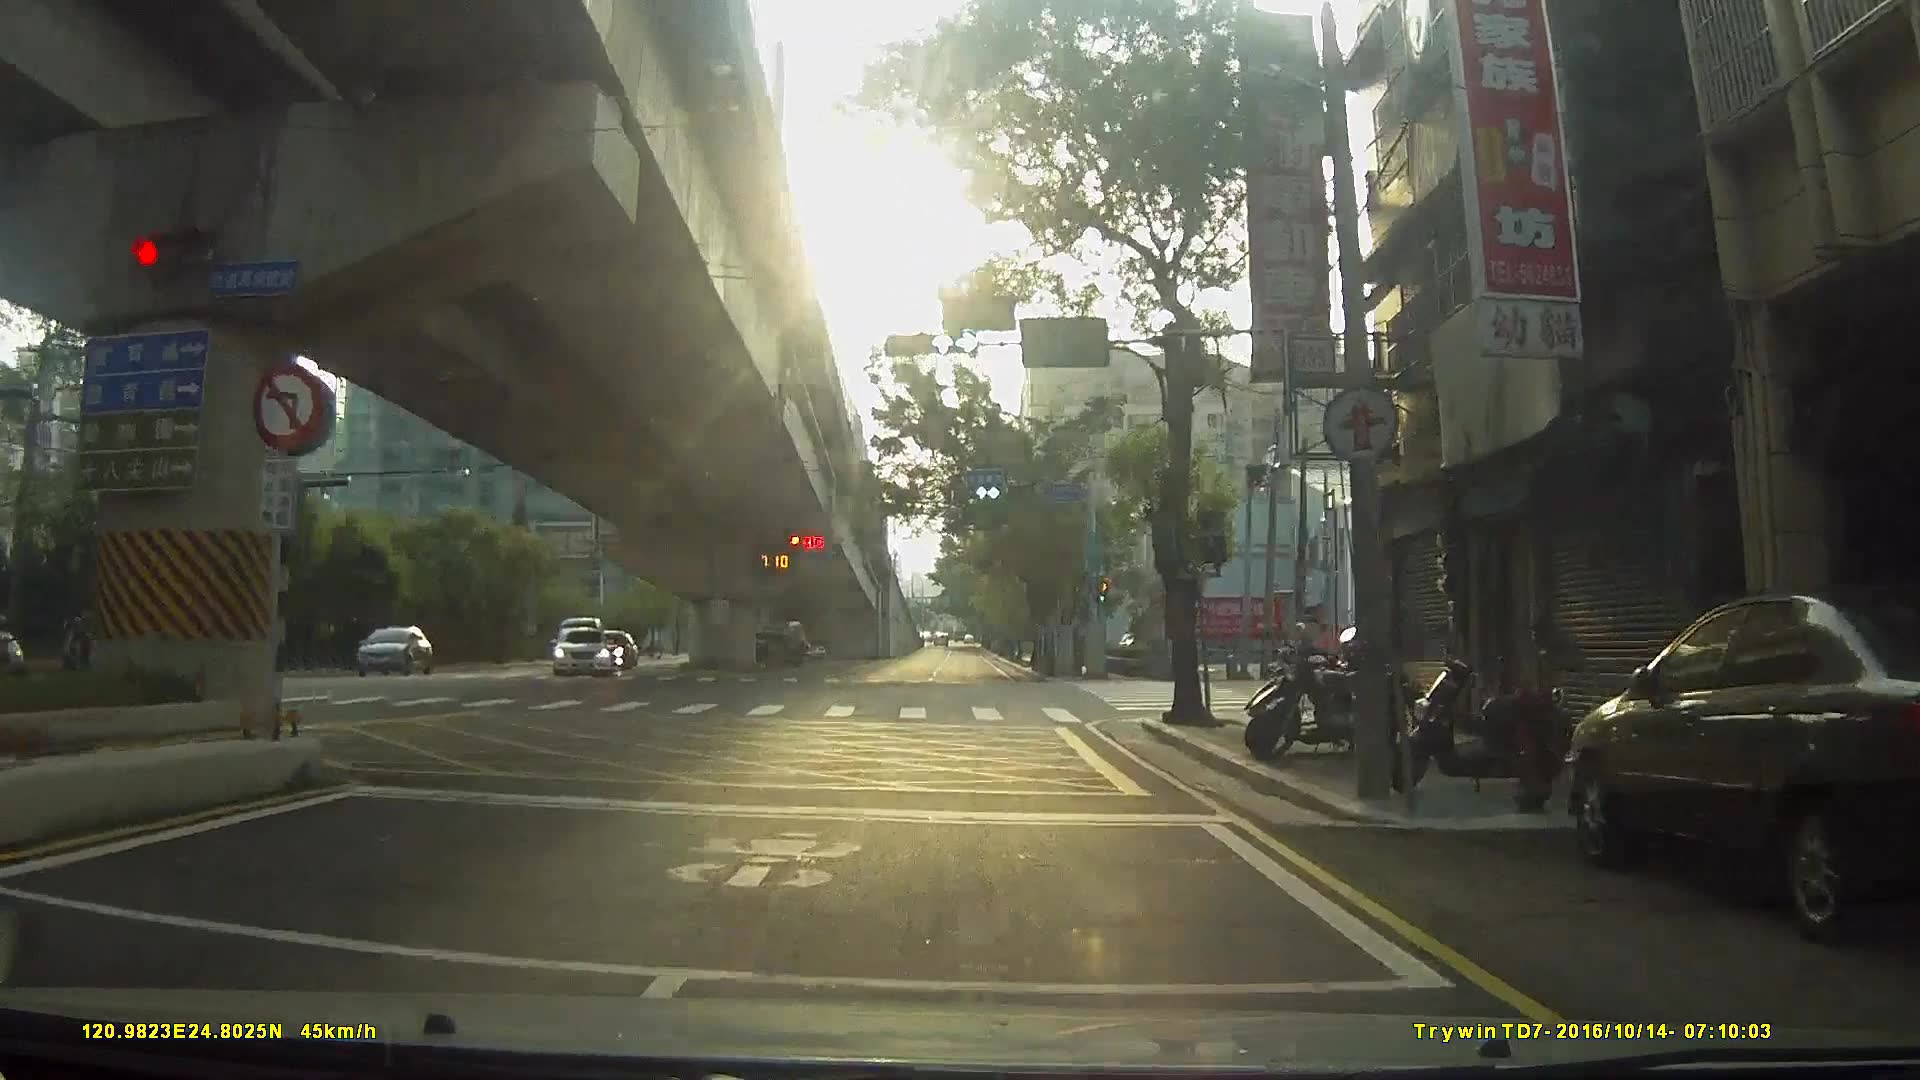vehicle: (1552, 582, 1920, 951), (345, 622, 426, 676), (546, 625, 611, 676), (732, 626, 806, 669)
